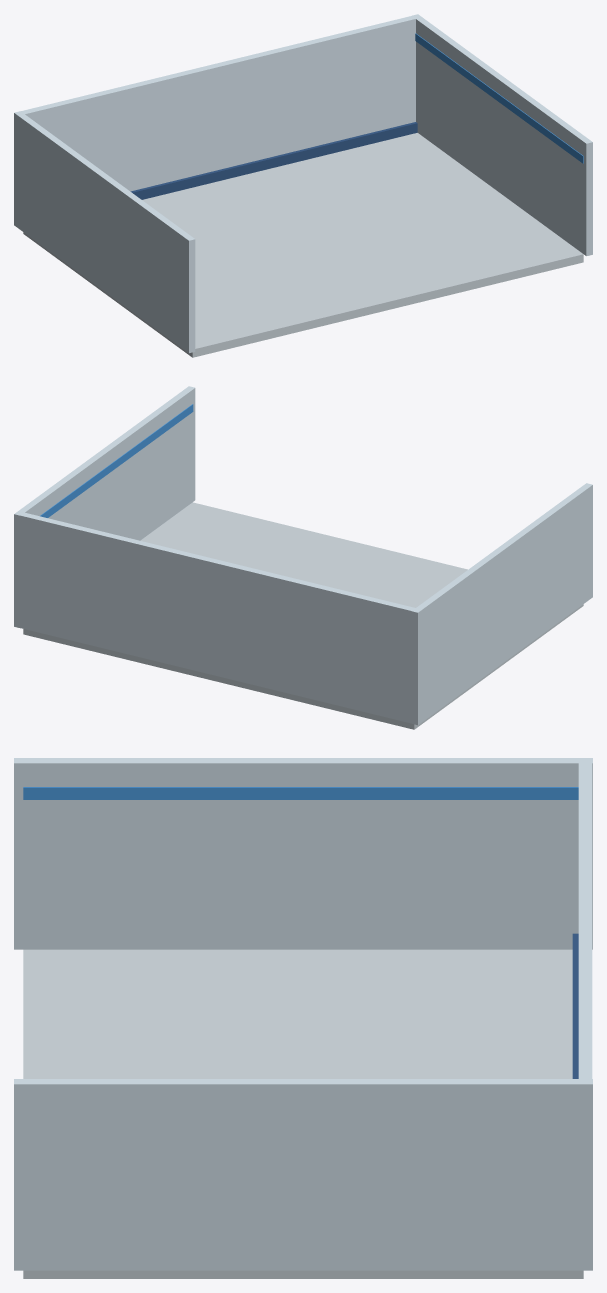
Rendered from RoomShell.fbx.
3 renders of one model, top to bottom at view 1: azimuth 30°, elevation 25°; view 2: azimuth 150°, elevation 25°; view 3: azimuth 270°, elevation 25°, orthographic. The views are drawn at different scales.
Parts seen in each view (by area): view 1: room floor, back wall, side wall, side wall.001, back skirting, wall stripe.001; view 2: back wall, side wall, room floor, side wall.001, wall stripe.001; view 3: side wall.001, side wall, room floor, wall stripe, back wall, back skirting.
Boxes of the visible parts, x1,y1,x2,y2 form: room floor: [23, 133, 583, 357]; back wall: [21, 16, 415, 191]; side wall: [14, 111, 195, 353]; side wall.001: [412, 14, 592, 256]; back skirting: [130, 122, 417, 199]; wall stripe.001: [415, 33, 583, 163]; back wall: [20, 512, 415, 723]; side wall: [411, 483, 592, 725]; room floor: [23, 502, 583, 729]; side wall.001: [14, 386, 195, 628]; wall stripe.001: [40, 404, 193, 517]; side wall.001: [14, 1079, 592, 1270]; side wall: [14, 758, 592, 949]; room floor: [23, 949, 583, 1278]; wall stripe: [23, 787, 578, 799]; back wall: [578, 763, 592, 1078]; back skirting: [572, 933, 578, 1078].
Size of the model in its own units: 1240 by 354 by 930.
